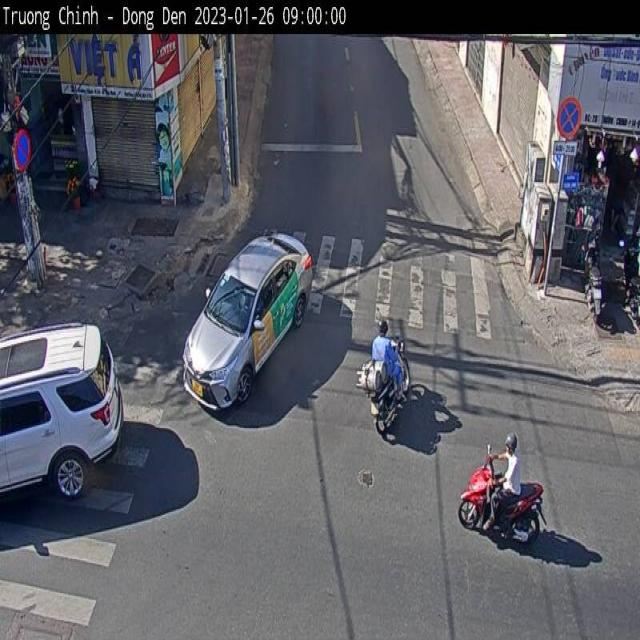with_helmet: (500, 430, 523, 467)
without_helmet: (373, 312, 394, 348)
